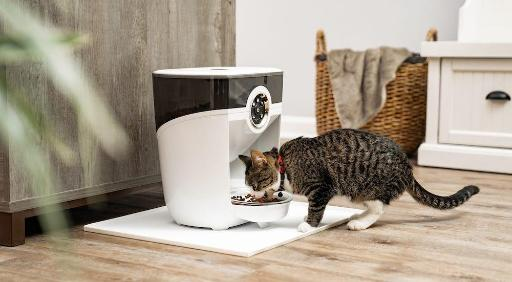cat_eating: (231, 129, 479, 232)
